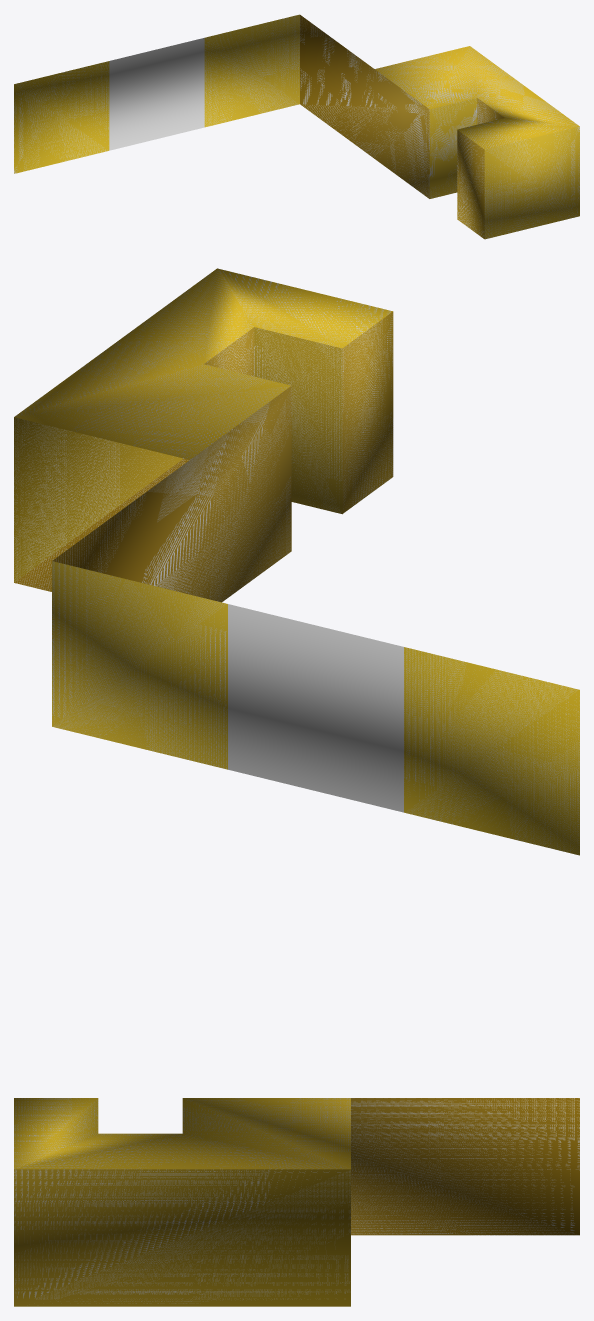
File: original-28.obj
3 renders of one model, top to bottom at view 1: azimuth 30°, elevation 25°; view 2: azimuth 150°, elevation 25°; view 3: azimuth 270°, elevation 25°, orthographic. The views are drawn at different scales.
Visible parts, largest first — view 1: 3dw.547ad62bd93988fff0117851f0671fde/Model/mesh1/mesh1-geometry/; view 2: 3dw.547ad62bd93988fff0117851f0671fde/Model/mesh1/mesh1-geometry/; view 3: 3dw.547ad62bd93988fff0117851f0671fde/Model/mesh1/mesh1-geometry/.
Boxes of the visible parts, x1,y1,x2,y2 form: 3dw.547ad62bd93988fff0117851f0671fde/Model/mesh1/mesh1-geometry/: (14,14,579,239); 3dw.547ad62bd93988fff0117851f0671fde/Model/mesh1/mesh1-geometry/: (14,268,579,855); 3dw.547ad62bd93988fff0117851f0671fde/Model/mesh1/mesh1-geometry/: (14,1098,579,1306).
Bounding box in the file's own units: 0.0907 × 0.0204 × 0.0761.
